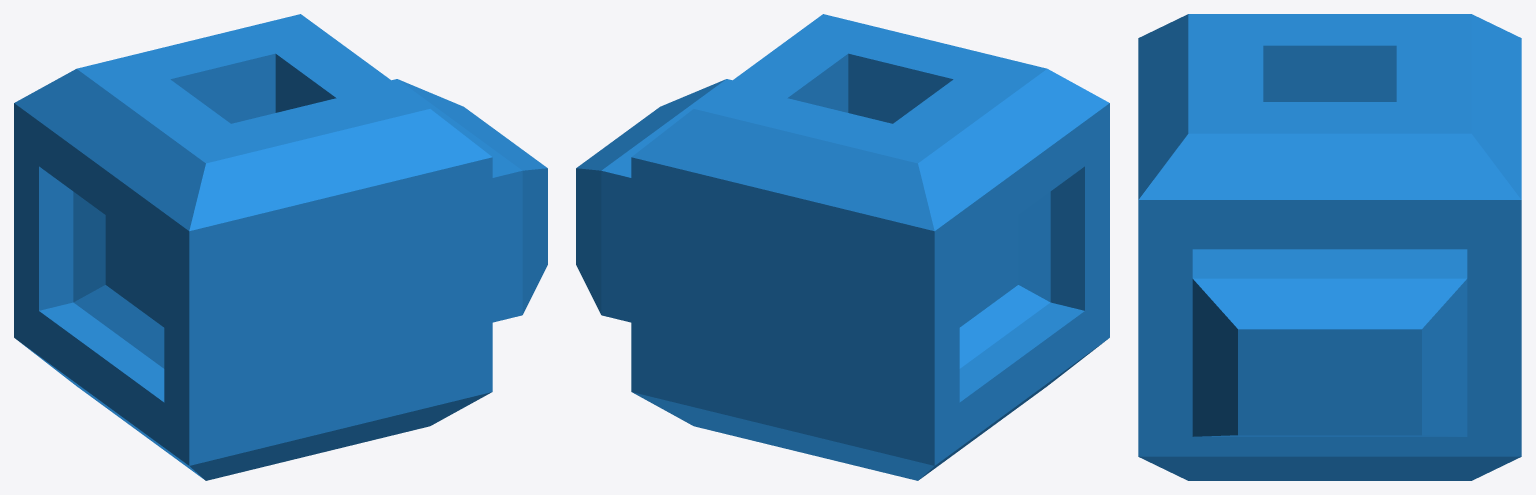
The model's file is block.glb.
3 renders of one model, left to right at view 1: azimuth 30°, elevation 25°; view 2: azimuth 150°, elevation 25°; view 3: azimuth 270°, elevation 25°, orthographic. The views are drawn at different scales.
Visible parts, largest first — view 1: Cube; view 2: Cube; view 3: Cube.
Boxes of the visible parts, x1,y1,x2,y2 form: Cube: [14, 14, 547, 480]; Cube: [576, 14, 1109, 480]; Cube: [1138, 14, 1521, 480].
Size of the model in its own units: 2.66 by 2 by 2.
